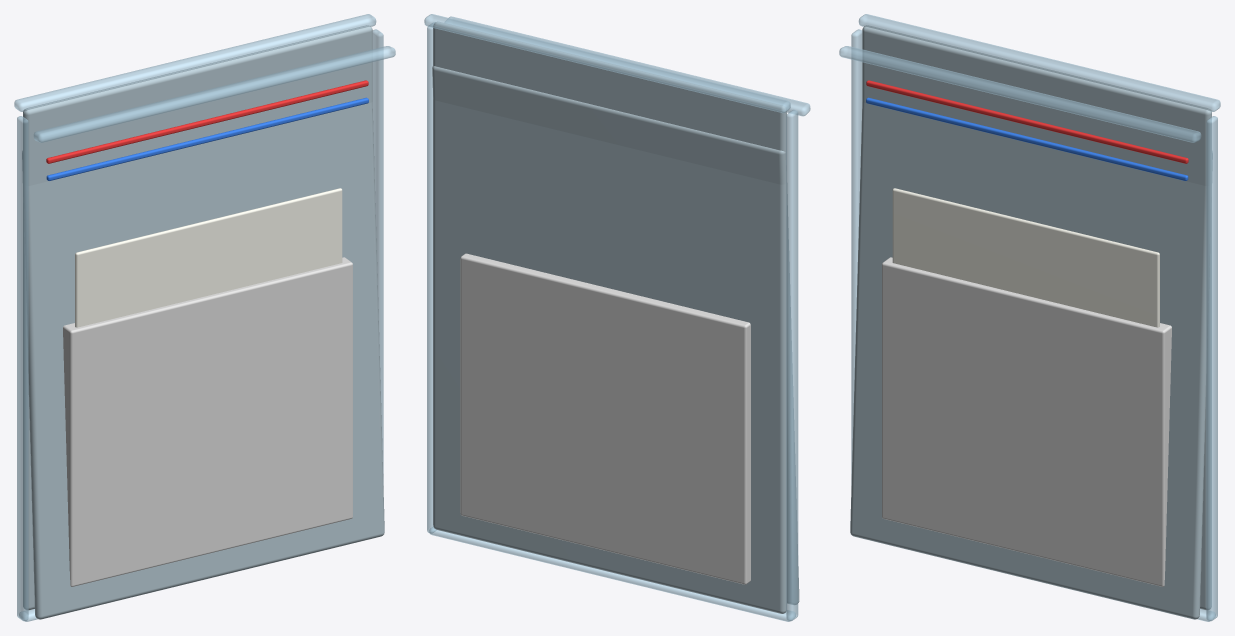
File: plastikkklip.fbx
The picture shows the model from 3 angles, left to right: view 1: azimuth 30°, elevation 25°; view 2: azimuth 150°, elevation 25°; view 3: azimuth 330°, elevation 25°; orthographic projection.
Parts seen in each view (by area): view 1: UNITY_MARKER_Insert_Capsule_Area, Bag_Front_Transparent_Open_Mouth, Bag_Back_Transparent, Blank_Label_Area_For_Etiket_Unity, Bag_Left_Sealed_Edge, Bag_Back_Top_Lip, Bag_Front_Top_Lip_Open, Bag_Right_Sealed_Edge, ZipLock_Blue_Line, ZipLock_Red_Line; view 2: Bag_Back_Transparent, UNITY_MARKER_Insert_Capsule_Area, Bag_Front_Transparent_Open_Mouth, Bag_Left_Sealed_Edge, Bag_Back_Top_Lip, Bag_Front_Top_Lip_Open, Bag_Right_Sealed_Edge, Bag_Bottom_Sealed_Edge; view 3: UNITY_MARKER_Insert_Capsule_Area, Bag_Front_Transparent_Open_Mouth, Bag_Back_Transparent, Blank_Label_Area_For_Etiket_Unity, Bag_Right_Sealed_Edge, Bag_Back_Top_Lip, Bag_Front_Top_Lip_Open, Bag_Left_Sealed_Edge, ZipLock_Blue_Line, ZipLock_Red_Line.
Part boxes in pixels (left/top/right/bottom): UNITY_MARKER_Insert_Capsule_Area: left=63, top=257, right=352, bottom=586; Bag_Front_Transparent_Open_Mouth: left=22, top=102, right=384, bottom=619; Bag_Back_Transparent: left=23, top=25, right=372, bottom=610; Blank_Label_Area_For_Etiket_Unity: left=75, top=188, right=342, bottom=327; Bag_Left_Sealed_Edge: left=17, top=116, right=28, bottom=621; Bag_Back_Top_Lip: left=14, top=14, right=376, bottom=111; Bag_Front_Top_Lip_Open: left=33, top=46, right=395, bottom=142; Bag_Right_Sealed_Edge: left=372, top=29, right=383, bottom=485; ZipLock_Blue_Line: left=46, top=97, right=368, bottom=180; ZipLock_Red_Line: left=46, top=80, right=368, bottom=163; Bag_Back_Transparent: left=433, top=21, right=786, bottom=613; UNITY_MARKER_Insert_Capsule_Area: left=460, top=253, right=750, bottom=584; Bag_Front_Transparent_Open_Mouth: left=432, top=66, right=799, bottom=604; Bag_Left_Sealed_Edge: left=786, top=109, right=798, bottom=621; Bag_Back_Top_Lip: left=424, top=14, right=790, bottom=113; Bag_Front_Top_Lip_Open: left=445, top=16, right=810, bottom=116; Bag_Right_Sealed_Edge: left=427, top=22, right=436, bottom=533; Bag_Bottom_Sealed_Edge: left=429, top=527, right=795, bottom=621; UNITY_MARKER_Insert_Capsule_Area: left=882, top=257, right=1171, bottom=586; Bag_Front_Transparent_Open_Mouth: left=850, top=102, right=1212, bottom=619; Bag_Back_Transparent: left=862, top=25, right=1211, bottom=610; Blank_Label_Area_For_Etiket_Unity: left=892, top=188, right=1159, bottom=327; Bag_Right_Sealed_Edge: left=1206, top=116, right=1217, bottom=621; Bag_Back_Top_Lip: left=858, top=14, right=1220, bottom=111; Bag_Front_Top_Lip_Open: left=839, top=46, right=1201, bottom=142; Bag_Left_Sealed_Edge: left=851, top=29, right=862, bottom=485; ZipLock_Blue_Line: left=866, top=97, right=1188, bottom=180; ZipLock_Red_Line: left=866, top=80, right=1188, bottom=163.
Size of the model in its own units: 332 by 452 by 44.58.
